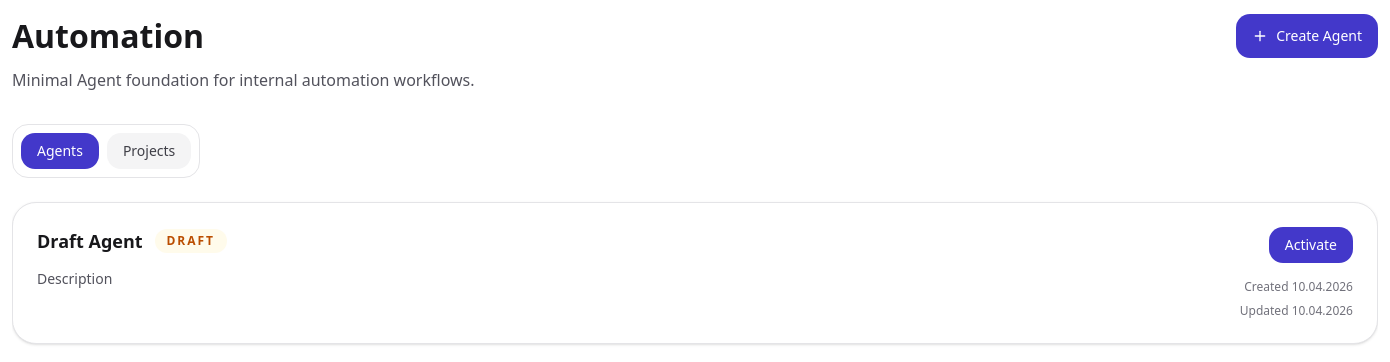
Test case: AutomationPage › givenDraftAgent_whenActivateCtaClicked_thenActivatesAgentAndShowsChatCta
Click the button "Activate" at point(1311, 245), box [1269,227,1353,263]
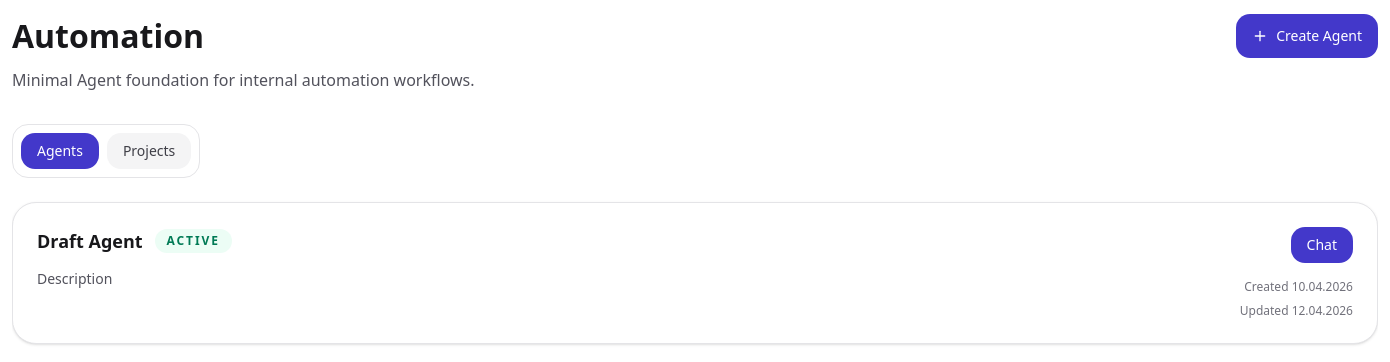
Expected: the text "ACTIVE" is shown, [155,229,232,253]
Expected: the button "Chat" is shown, [1291,227,1353,263]
